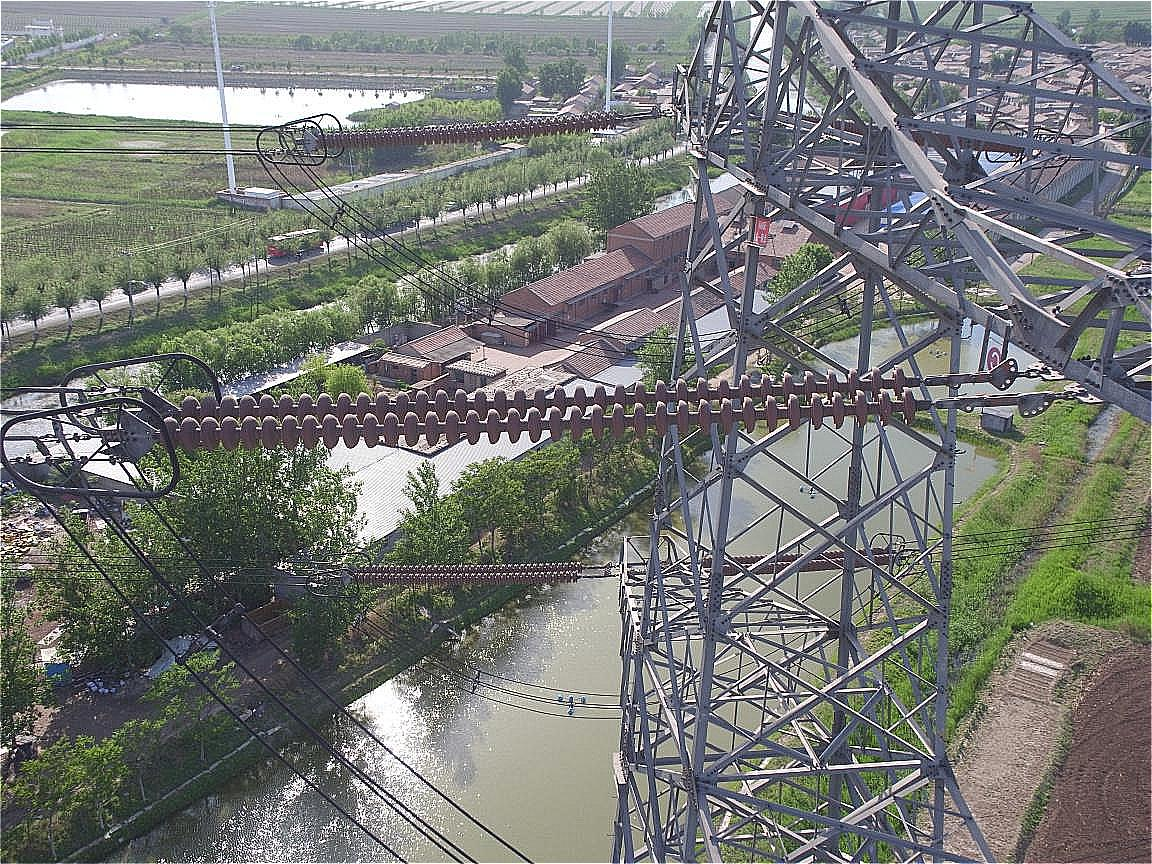insultor1: (157, 360, 932, 452), (313, 100, 632, 158), (347, 545, 586, 596)
